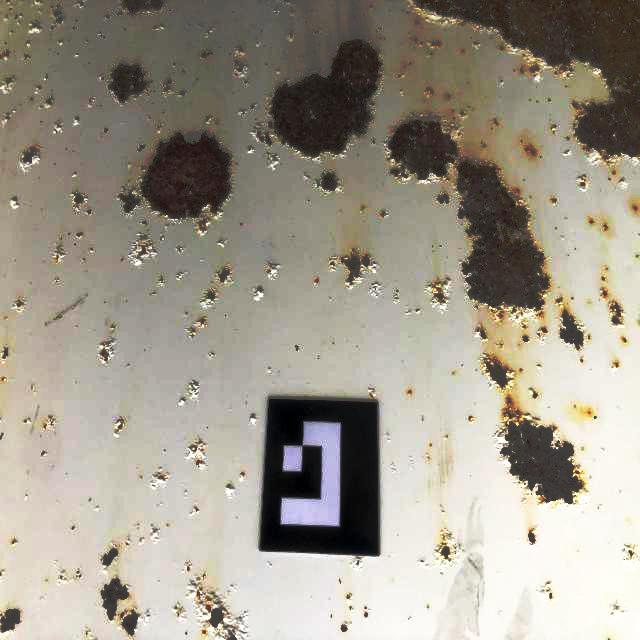Corrosion: (406, 0, 640, 176), (452, 157, 551, 331), (265, 32, 385, 162), (493, 395, 593, 511), (136, 130, 234, 237), (381, 112, 462, 186), (186, 571, 250, 640), (105, 58, 153, 105), (329, 247, 379, 290), (554, 296, 587, 354), (478, 351, 515, 396), (100, 571, 131, 624), (250, 122, 281, 171), (433, 526, 460, 574), (118, 605, 150, 638), (424, 277, 450, 315), (117, 185, 144, 218), (117, 0, 166, 18), (314, 168, 343, 197), (131, 231, 154, 267), (185, 439, 207, 470), (0, 606, 21, 636), (100, 541, 118, 574), (19, 147, 41, 171), (621, 542, 640, 569), (186, 316, 207, 339), (609, 301, 625, 331), (98, 338, 116, 364), (151, 467, 169, 490), (538, 580, 554, 603), (214, 264, 232, 284), (70, 192, 88, 212), (200, 288, 217, 309), (609, 603, 628, 621), (527, 524, 540, 550), (172, 603, 187, 624), (474, 322, 489, 342), (232, 60, 248, 78), (350, 555, 365, 573), (53, 5, 65, 26), (187, 381, 200, 400), (162, 79, 175, 97), (536, 327, 549, 345), (113, 417, 125, 436), (576, 173, 588, 192), (436, 189, 450, 205), (53, 245, 65, 263), (522, 144, 537, 158), (266, 263, 279, 279), (28, 18, 41, 34), (346, 593, 355, 615), (369, 282, 380, 299), (42, 417, 55, 431), (12, 299, 24, 312), (225, 483, 236, 497), (1, 345, 9, 363), (340, 620, 351, 633), (528, 387, 539, 400), (254, 287, 264, 301), (53, 121, 63, 134), (10, 195, 19, 209), (200, 50, 214, 59), (599, 288, 609, 300), (235, 45, 245, 56), (58, 572, 67, 584), (87, 95, 96, 107), (368, 386, 376, 399), (182, 562, 192, 572), (217, 238, 228, 247), (427, 41, 441, 48), (611, 361, 619, 373), (45, 97, 54, 107), (76, 569, 84, 580), (550, 196, 558, 207), (425, 87, 433, 98), (250, 413, 257, 425), (550, 124, 557, 136), (620, 176, 627, 187), (137, 144, 145, 153), (288, 29, 294, 41), (621, 334, 629, 343), (522, 335, 530, 344), (459, 111, 468, 119), (32, 0, 42, 7), (393, 294, 400, 304), (239, 471, 245, 482), (76, 0, 84, 8), (364, 606, 368, 622), (179, 397, 186, 406), (22, 54, 31, 61), (380, 210, 387, 219), (74, 116, 80, 126), (602, 222, 608, 232), (178, 90, 186, 97), (34, 85, 41, 93), (302, 172, 309, 180), (314, 277, 319, 288), (0, 571, 4, 584), (250, 104, 257, 111), (85, 209, 93, 215), (76, 232, 82, 240), (97, 32, 105, 38), (206, 116, 212, 124), (468, 416, 474, 424), (588, 217, 594, 225), (493, 118, 499, 126), (633, 203, 638, 212), (105, 14, 112, 20), (406, 391, 413, 397), (239, 110, 247, 115), (294, 344, 299, 352), (99, 74, 104, 81), (580, 356, 585, 363), (414, 309, 421, 314), (398, 74, 405, 79), (426, 453, 430, 461), (103, 128, 109, 133), (283, 0, 290, 4), (587, 334, 591, 341), (602, 275, 606, 282), (244, 80, 249, 85), (11, 540, 15, 546), (160, 24, 164, 30), (153, 26, 159, 30), (314, 31, 320, 35), (519, 367, 523, 373), (339, 578, 342, 585), (594, 415, 598, 420), (605, 267, 609, 272), (547, 98, 551, 103), (45, 75, 48, 80), (75, 53, 80, 56), (429, 442, 432, 447), (566, 137, 569, 141), (396, 289, 399, 293), (447, 95, 450, 99), (373, 140, 375, 145), (430, 52, 433, 55), (303, 397, 307, 399), (173, 63, 175, 66), (73, 27, 75, 30)
